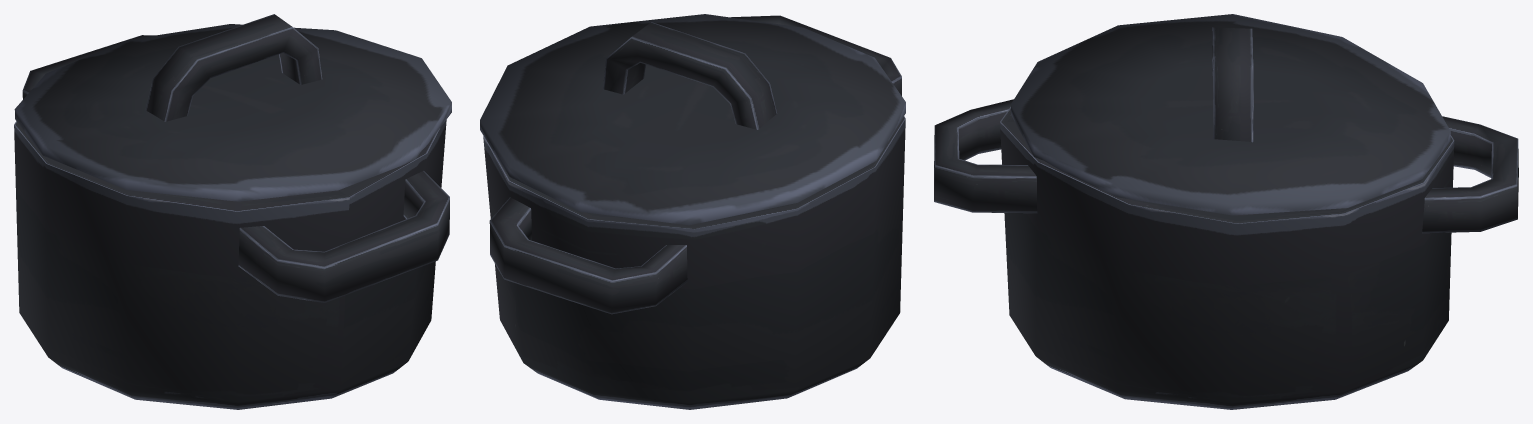
The model's file is SM_PROP_cookingpot_interior_02.fbx.
3 renders of one model, left to right at view 1: azimuth 30°, elevation 25°; view 2: azimuth 150°, elevation 25°; view 3: azimuth 270°, elevation 25°, orthographic. The views are drawn at different scales.
Visible parts, largest first — view 1: SM_PROP_cookingpot_interior_02, SM_PROP_cookingpot_lid_interior_02; view 2: SM_PROP_cookingpot_interior_02, SM_PROP_cookingpot_lid_interior_02; view 3: SM_PROP_cookingpot_interior_02, SM_PROP_cookingpot_lid_interior_02.
Boxes of the visible parts, x1,y1,x2,y2 form: SM_PROP_cookingpot_interior_02: [14, 35, 449, 409]; SM_PROP_cookingpot_lid_interior_02: [14, 14, 451, 201]; SM_PROP_cookingpot_interior_02: [483, 15, 905, 409]; SM_PROP_cookingpot_lid_interior_02: [480, 14, 905, 225]; SM_PROP_cookingpot_interior_02: [934, 99, 1518, 409]; SM_PROP_cookingpot_lid_interior_02: [1011, 14, 1450, 215].
Size of the model in its own units: 33.49 by 24.9 by 44.53.
